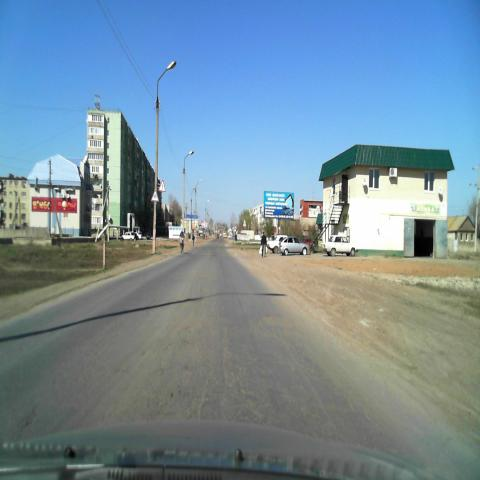1_23: (151, 188, 159, 202)
2_3_2: (158, 178, 166, 192)
